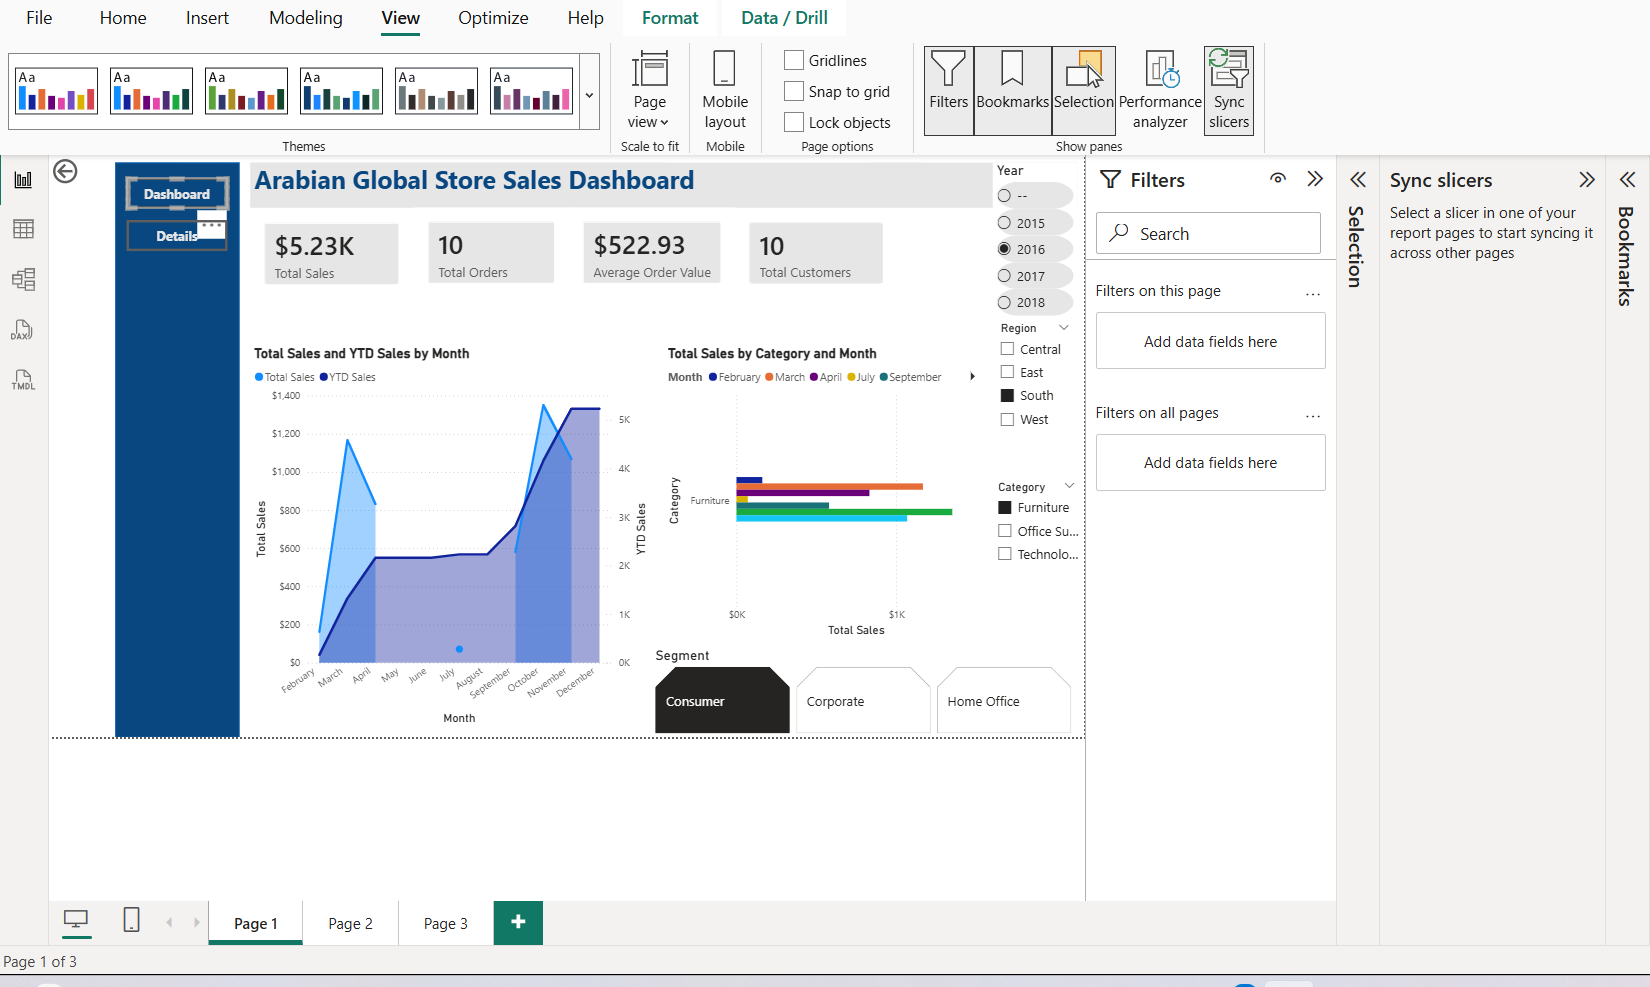

What the dashboard file says about the page in this screenshot:
{"tool":"powerbi","page":{"name":"Page 1","canvas":[1280,720],"ordinal":0},"visuals":[{"type":"shape","box":[82.3,9.6,153.7,710.8],"z":0},{"type":"textbox","title":"Arabian Global Store            Sales Dashboard","box":[248.3,9.6,1022.3,56.3],"z":0,"group":"g1"},{"type":"actionButton","box":[96.1,27.4,124.9,38.4],"z":1000},{"type":"cardVisual","fields":{"Data":["Fact_Orders.Total Sales"]},"box":[248.2,66,201.8,111.3],"z":1000,"group":"g1"},{"type":"cardVisual","fields":{"Data":["Fact_Orders.Total Orders"]},"box":[450,64.8,192,111.3],"z":2000,"group":"g1"},{"type":"actionButton","box":[96.1,79.6,124.9,38.4],"z":2000},{"type":"group","id":"g1","title":"Group 1","box":[248.2,9.6,1032.1,710.6],"z":3000},{"type":"cardVisual","fields":{"Data":["Fact_Orders.Average Order Value"]},"box":[642,64.8,205.4,111.3],"z":3000,"group":"g1"},{"type":"areaChart","fields":{"Category":["Dim_Date.Month"],"Y":["Fact_Orders.Total Sales"],"Y2":["Fact_Orders.YTD Sales"]},"box":[248.2,234.8,496.5,474.5],"z":4000,"group":"g1"},{"type":"actionButton","box":[0,0,100,40],"z":5000},{"type":"clusteredBarChart","fields":{"Y":["Fact_Orders.Total Sales"],"Category":["Dim_Products.Category"],"Series":["Dim_Date.Month"]},"box":[759.3,234.8,401.1,365.6],"z":5000,"group":"g1"},{"type":"cardVisual","fields":{"Data":["Dim_Customers.Total Customers"]},"box":[847.4,66,200.5,110.1],"z":6000,"group":"g1"},{"type":"listSlicer","fields":{"Values":["Dim_Date.Year"]},"box":[1165.3,9.8,105.2,297.1],"z":7000,"group":"g1"},{"type":"slicer","fields":{"Values":["Fact_Orders.Region"]},"box":[1162.9,200.5,110.1,181],"z":8000,"group":"g1"},{"type":"slicer","fields":{"Values":["Dim_Products.Category"]},"box":[1160.4,397.4,119.8,220.1],"z":9000,"group":"g1"},{"type":"advancedSlicerVisual","fields":{"Values":["Dim_Customers.Segment"]},"box":[744.7,609,525.8,111.3],"z":10000,"group":"g1"}]}

Visuals, with their boxes on the page's 1280x720 design canvas (x1, y1, x2, y2). These are canvas units, not pixel positions in the 1650x987 screenshot, which may show the page scaled, cropped or inside an application window:
shape: locate(82, 10, 236, 720)
"Arabian Global Store            Sales Dashboard" textbox: locate(248, 10, 1271, 66)
actionButton: locate(96, 27, 221, 66)
cardVisual - Fact_Orders.Total Sales: locate(248, 66, 450, 177)
cardVisual - Fact_Orders.Total Orders: locate(450, 65, 642, 176)
actionButton: locate(96, 80, 221, 118)
"Group 1" group: locate(248, 10, 1280, 720)
cardVisual - Fact_Orders.Average Order Value: locate(642, 65, 847, 176)
areaChart - Dim_Date.Month x Fact_Orders.Total Sales: locate(248, 235, 745, 709)
actionButton: locate(0, 0, 100, 40)
clusteredBarChart - Fact_Orders.Total Sales x Dim_Products.Category: locate(759, 235, 1160, 600)
cardVisual - Dim_Customers.Total Customers: locate(847, 66, 1048, 176)
listSlicer - Dim_Date.Year: locate(1165, 10, 1270, 307)
slicer - Fact_Orders.Region: locate(1163, 200, 1273, 382)
slicer - Dim_Products.Category: locate(1160, 397, 1280, 618)
advancedSlicerVisual - Dim_Customers.Segment: locate(745, 609, 1270, 720)
